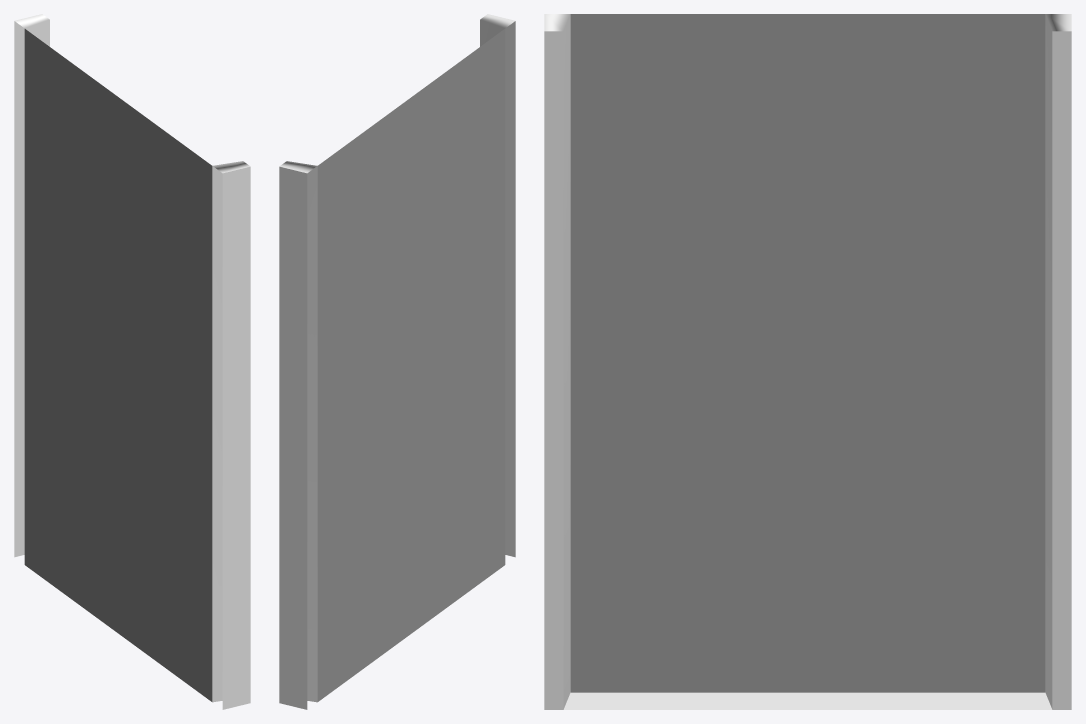
File: Door_Wall_Mrt.fbx
3 renders of one model, left to right at view 1: azimuth 30°, elevation 25°; view 2: azimuth 150°, elevation 25°; view 3: azimuth 270°, elevation 25°, orthographic. The views are drawn at different scales.
Visible parts, largest first — view 1: Door, DoorWall; view 2: Door, DoorWall; view 3: Door, DoorWall.
Boxes of the visible parts, <box> form: Door: <box>24,29,212,701</box>; DoorWall: <box>14,14,250,709</box>; Door: <box>317,29,505,701</box>; DoorWall: <box>279,14,515,709</box>; Door: <box>570,14,1045,692</box>; DoorWall: <box>544,14,1071,709</box>.
Bounding box in the file's own units: 11.67 × 214 × 150.
